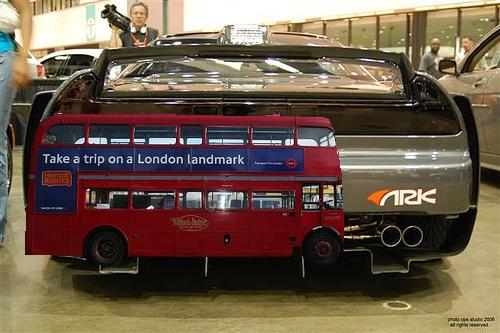tampered: (26, 114, 344, 265)
